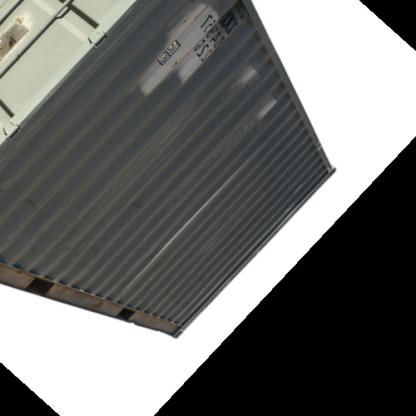Damage: (144, 3, 230, 98), (252, 96, 282, 120), (122, 195, 154, 217), (238, 54, 260, 84), (19, 195, 38, 212)
